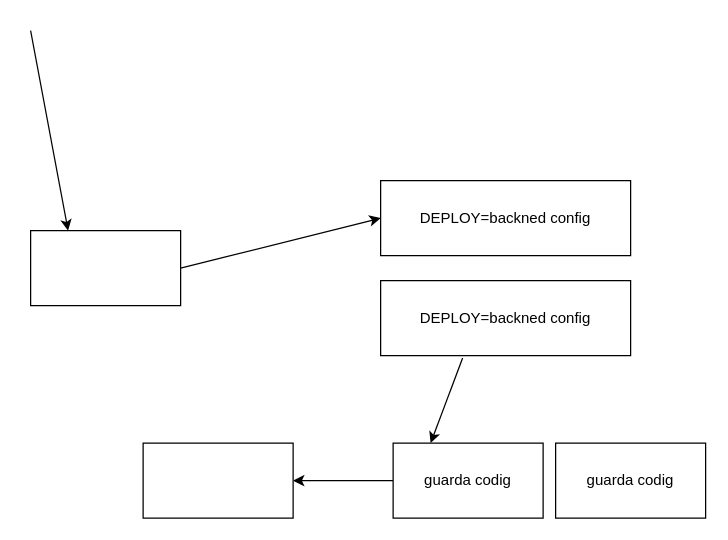
This 728x540 diagram has some shape labels left out. Here are the shapes that lost their labels. From the top down, the centre of each, then its label:
[105,267]: ingress/gateway
[217,480]: svc
